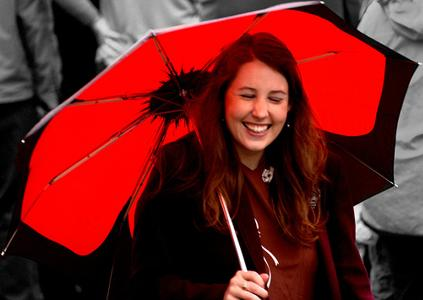person: (127, 33, 377, 300)
